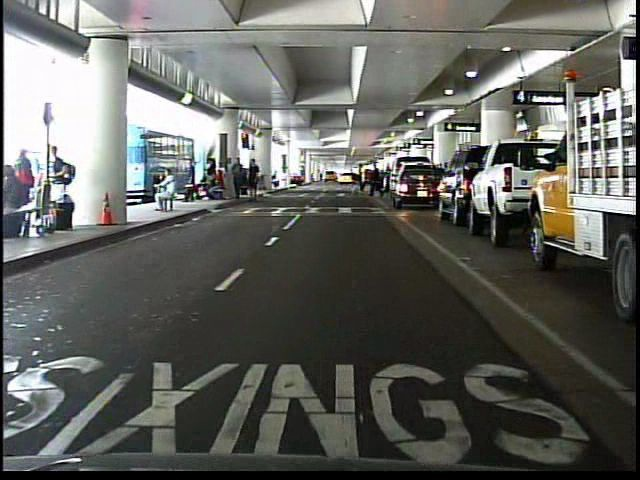person: (149, 168, 180, 215), (368, 158, 387, 202), (184, 155, 200, 205), (348, 160, 369, 197)
